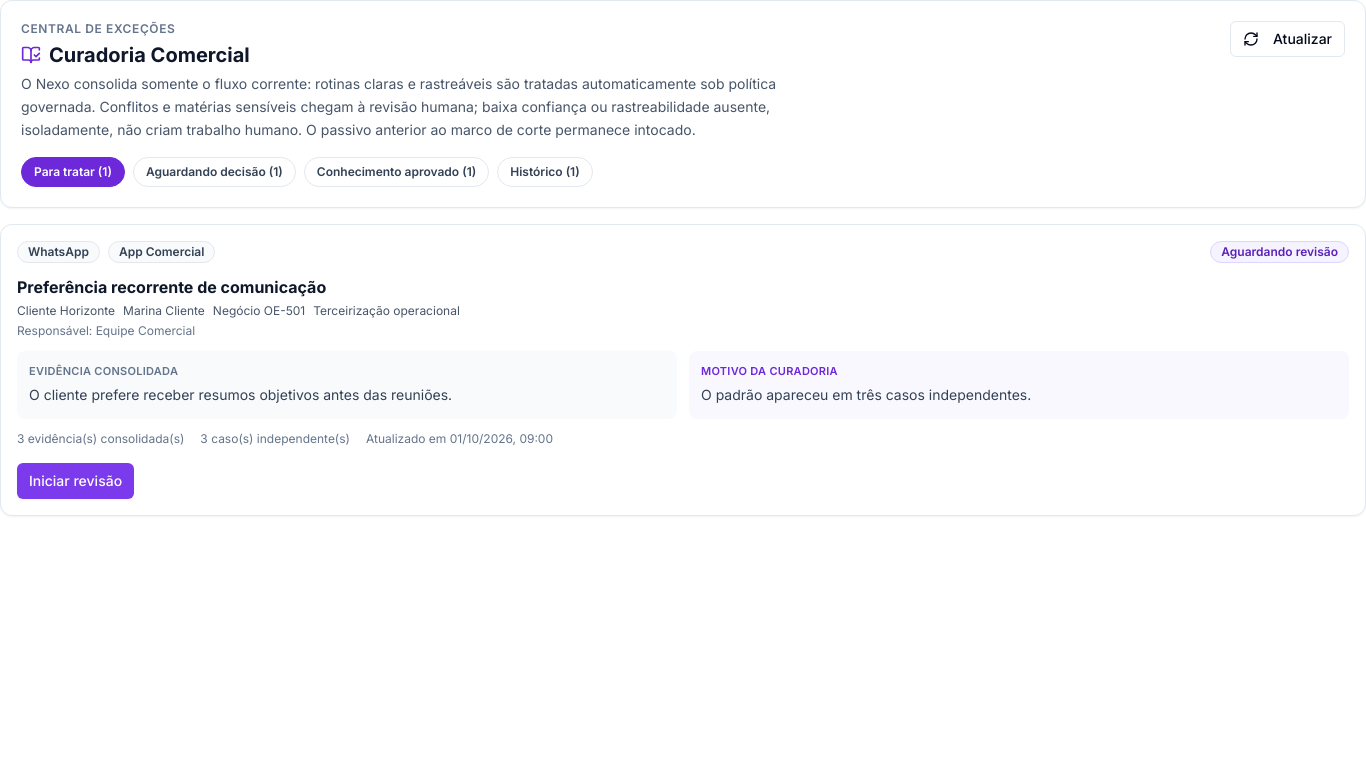
Test: Curadoria Comercial Unificada › mostra as quatro visões e referências humanas sem expor identificadores técnicos
This screenshot has width=1366, height=768.
Check: the text "baixa confiança ou rastreabilidade ausente, isoladamente, não criam trabalho humano" is shown, box [21, 75, 776, 138]
Check: the heading "Preferência recorrente de comunicação" is shown, box [17, 277, 326, 297]
Click the tab "Aguardando decisão (1)": (214, 172) [133, 157, 296, 187]
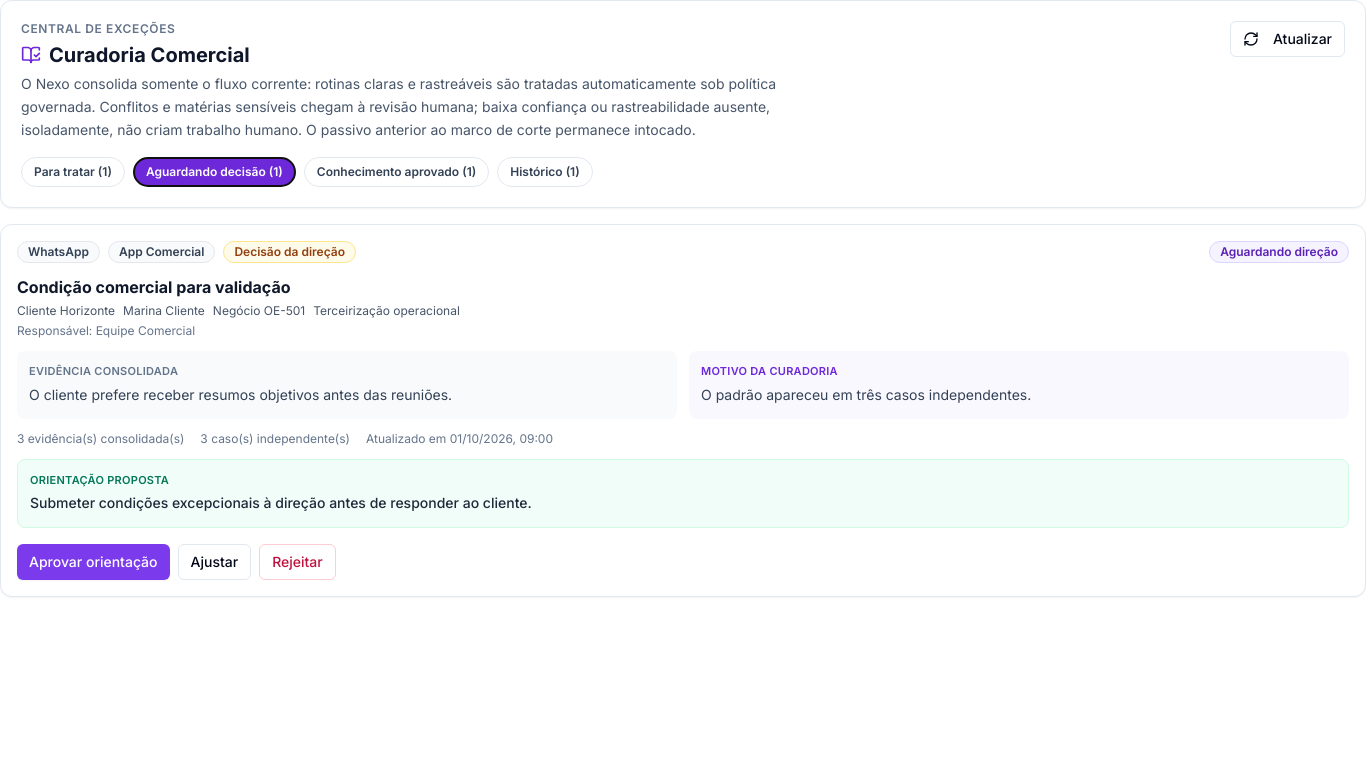
Check: the heading "Condição comercial para validação" is shown, box [17, 277, 290, 297]
Click the tab "Conhecimento aprovado (1)": (396, 172) [304, 157, 489, 187]
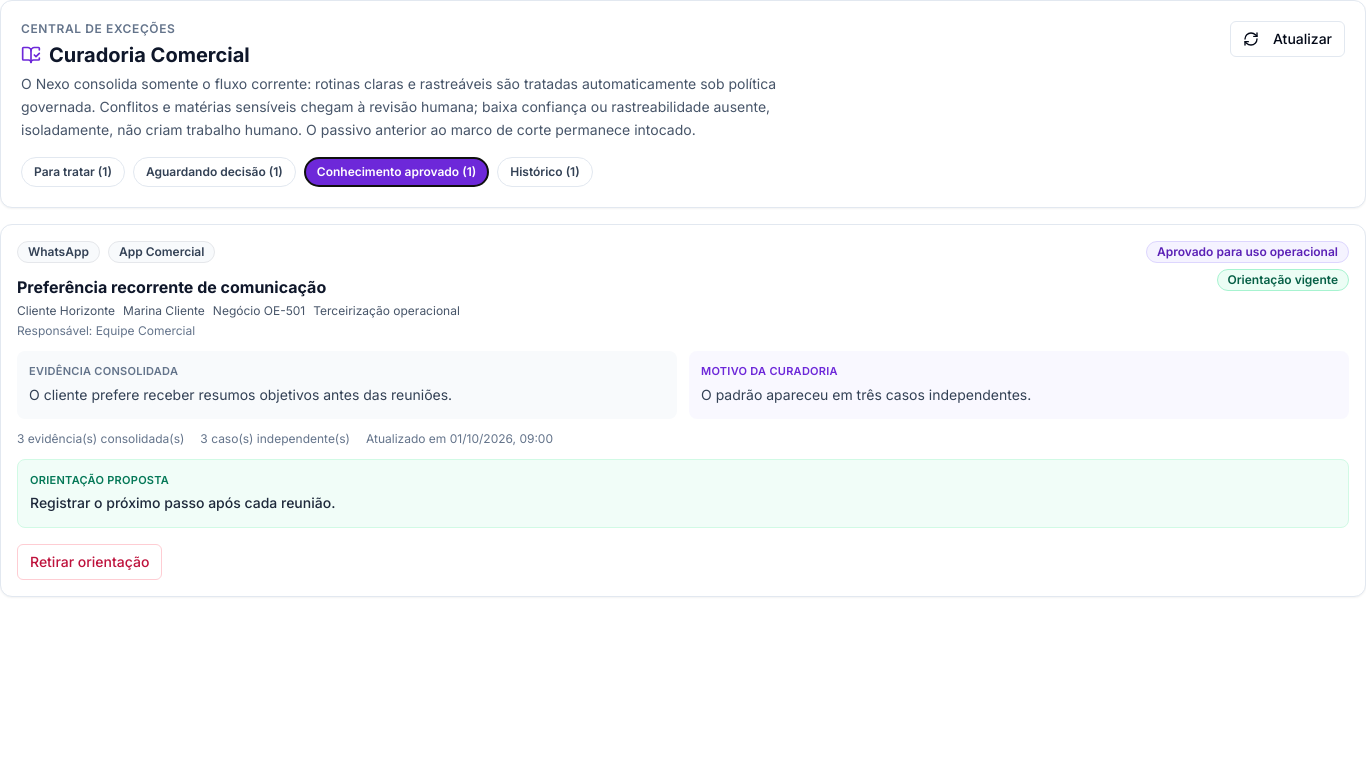
Check: the text "Registrar o próximo passo após cada reunião." is shown, box [30, 494, 335, 511]
Check: the text "Orientação vigente" is shown, box [1216, 269, 1349, 291]
Click the tab "Histórico (1)": (545, 172) [497, 157, 593, 187]
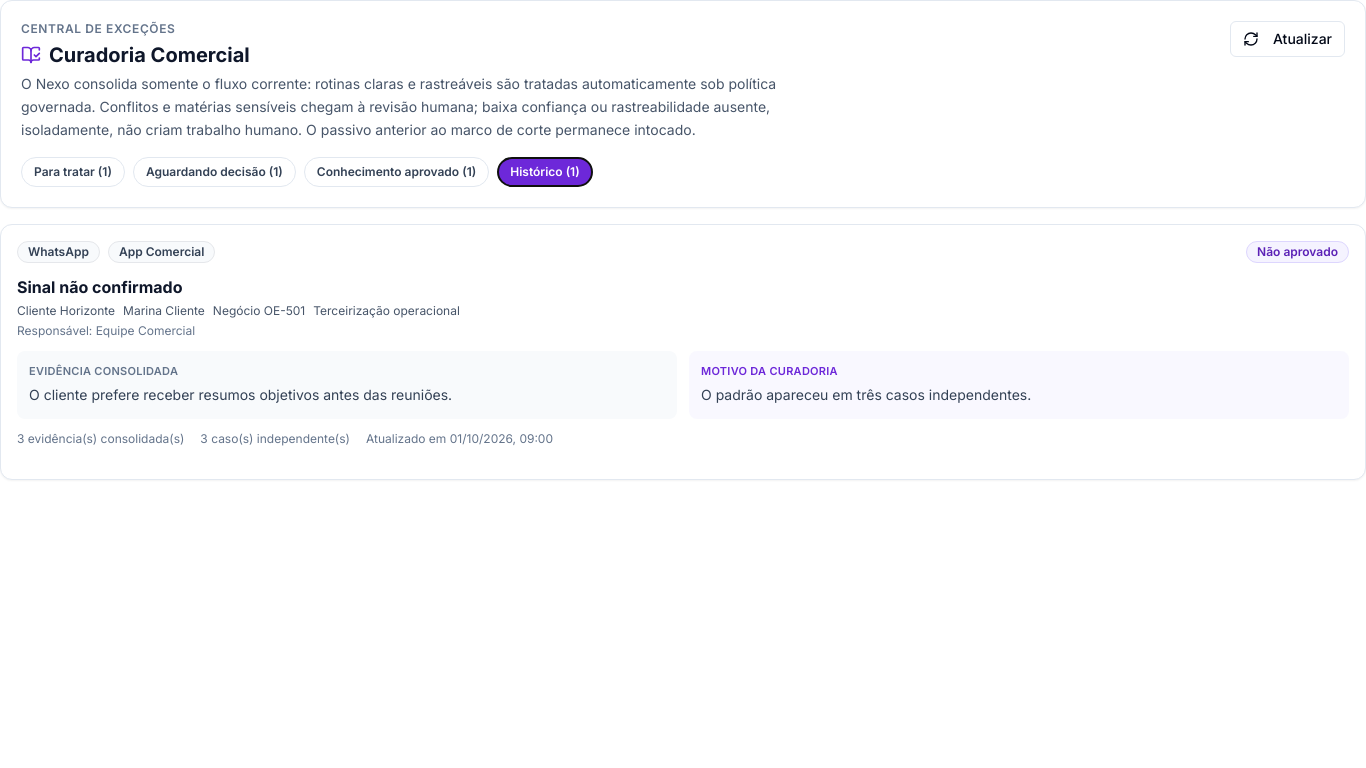
Check: the heading "Sinal não confirmado" is shown, box [17, 277, 182, 297]
